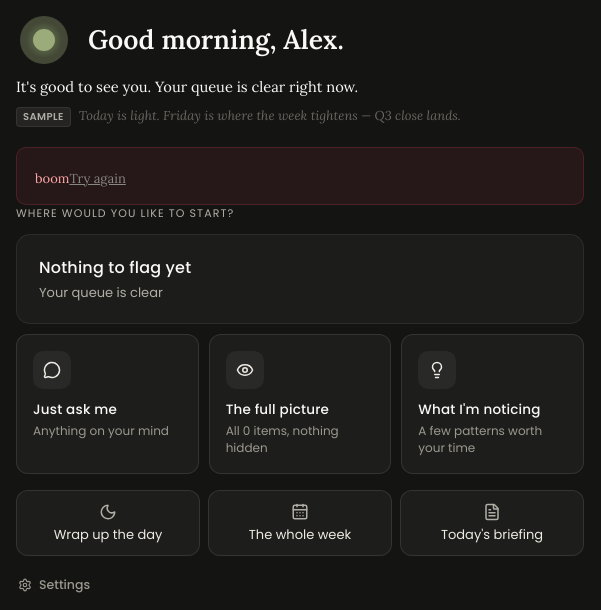
DashboardPage › shows error then clears it after successful retry
Expected: the message shows "boom", [35,170,69,187]
Click the button "Try again". click: [98, 178]
box: [69,170,126,187]
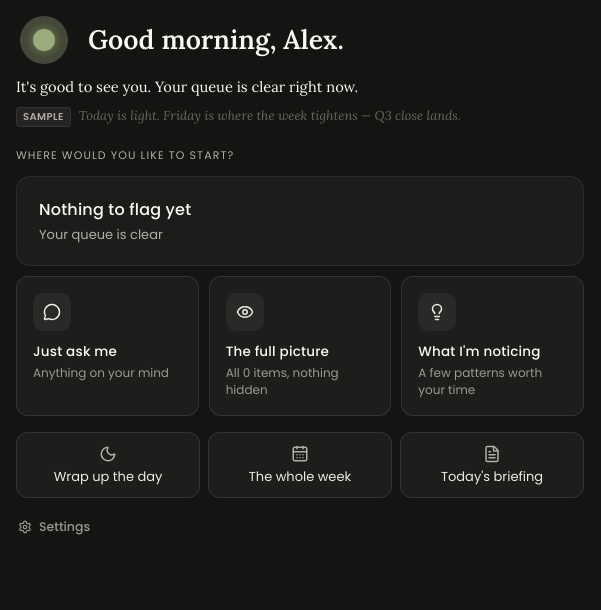
Now the message "boom Try again" is gone
